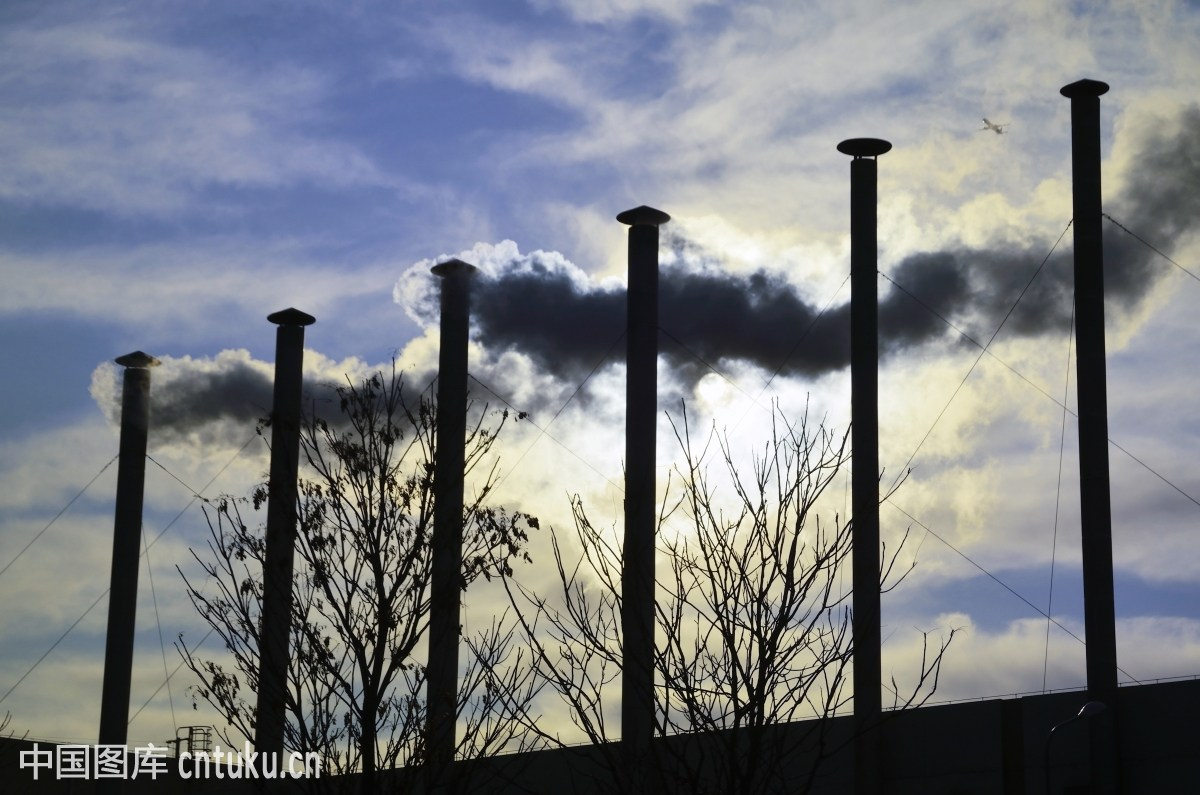dust: (88, 316, 399, 464), (392, 206, 624, 403)
